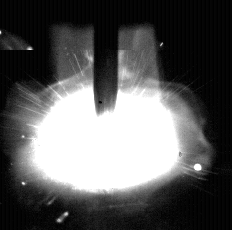arame: (96, 0, 119, 117)
poca: (38, 0, 177, 230)
